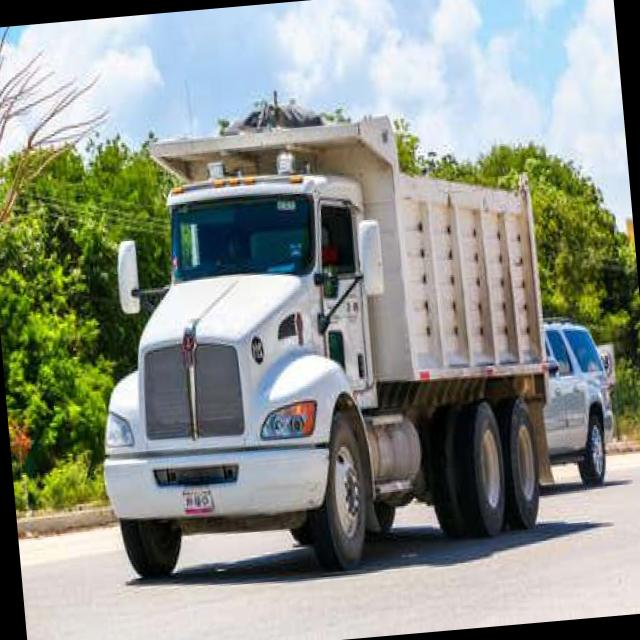Camion volquete: (68, 84, 564, 592)
SUV: (532, 309, 620, 491)
